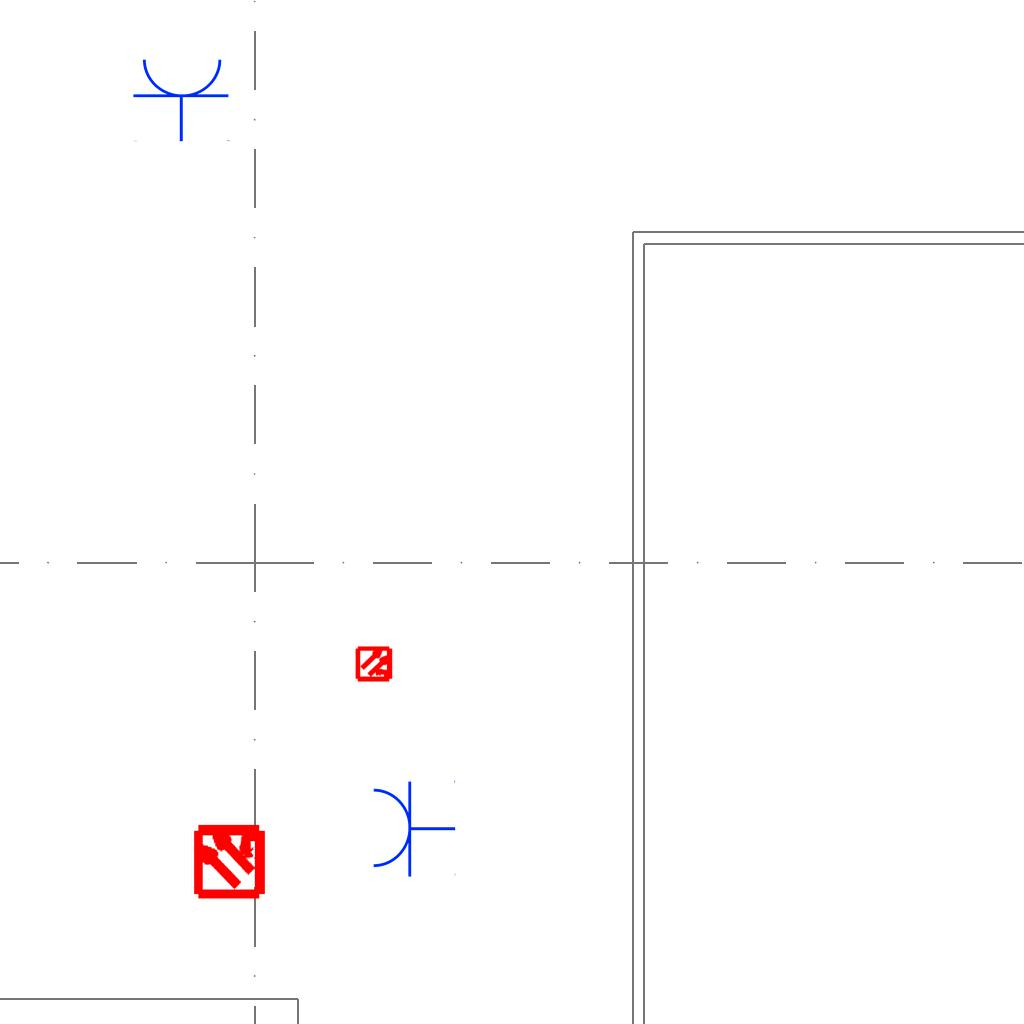OT_Multisensormelder_(Kombination_RMO_WMD): (173, 803, 286, 916), (347, 636, 403, 692)
Schukosteckdose_einfach: (369, 778, 456, 878), (132, 55, 232, 142)
